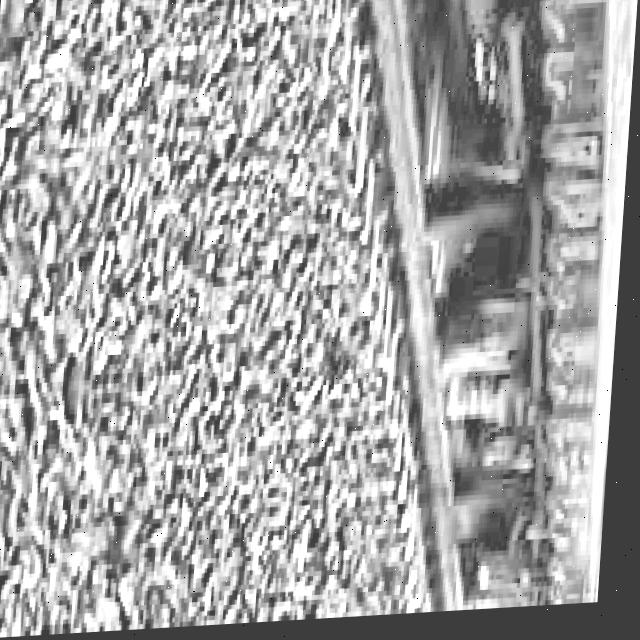Gerbong: (276, 0, 640, 626), (430, 0, 640, 618)
